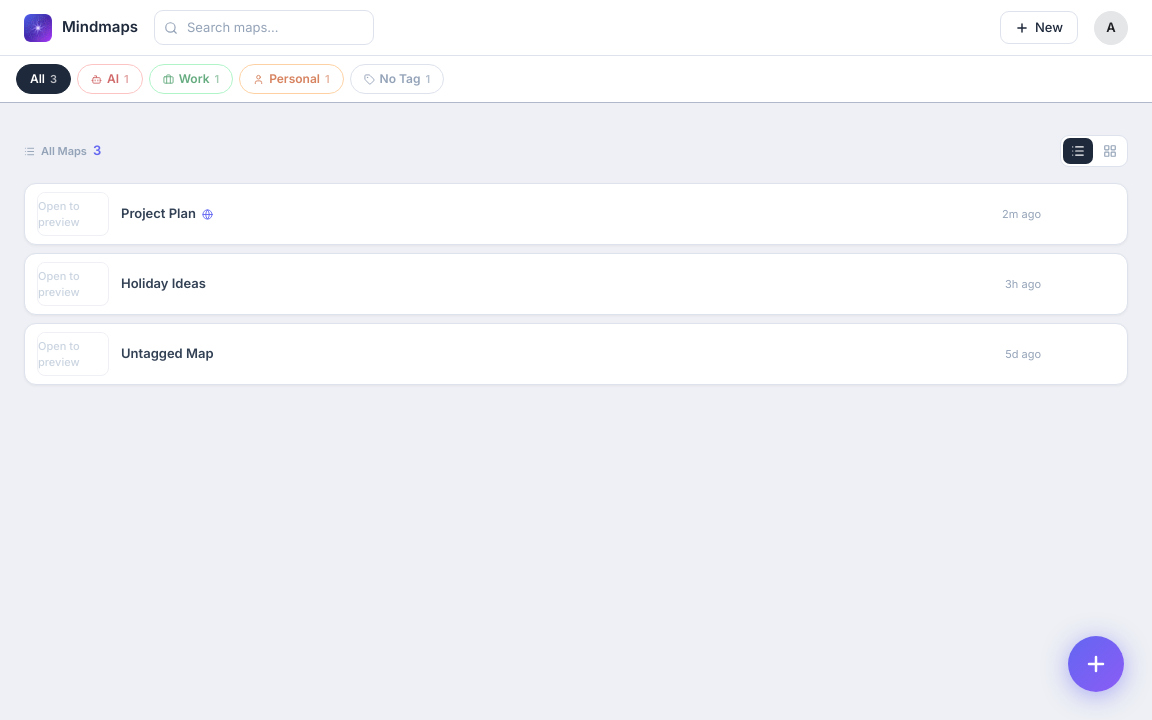
it: HomePage — delete & tag editing › closes the delete confirm on Escape
The image size is (1152, 720).
Hover over the button "Open to preview Project Plan 2m ago".
mouse_move(73, 214)  # box x1=24 y1=183 x2=1128 y2=245
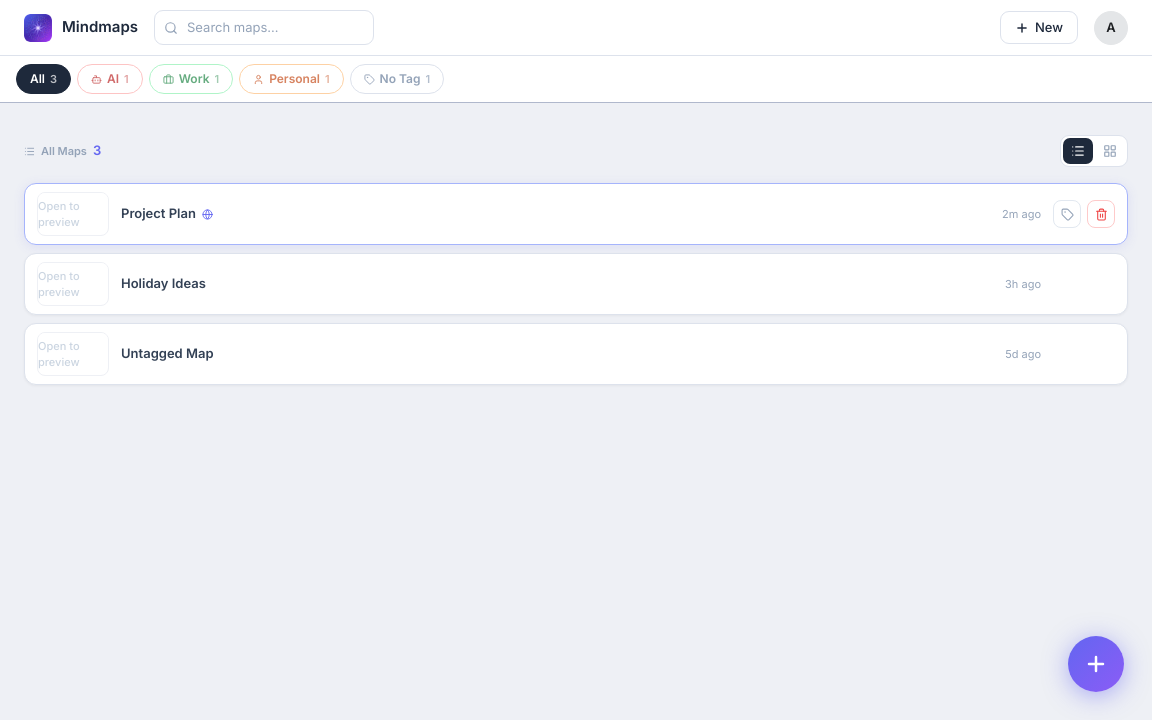
Click the button named "Delete Project Plan".
click(1101, 214)  # box x1=1087 y1=200 x2=1115 y2=228
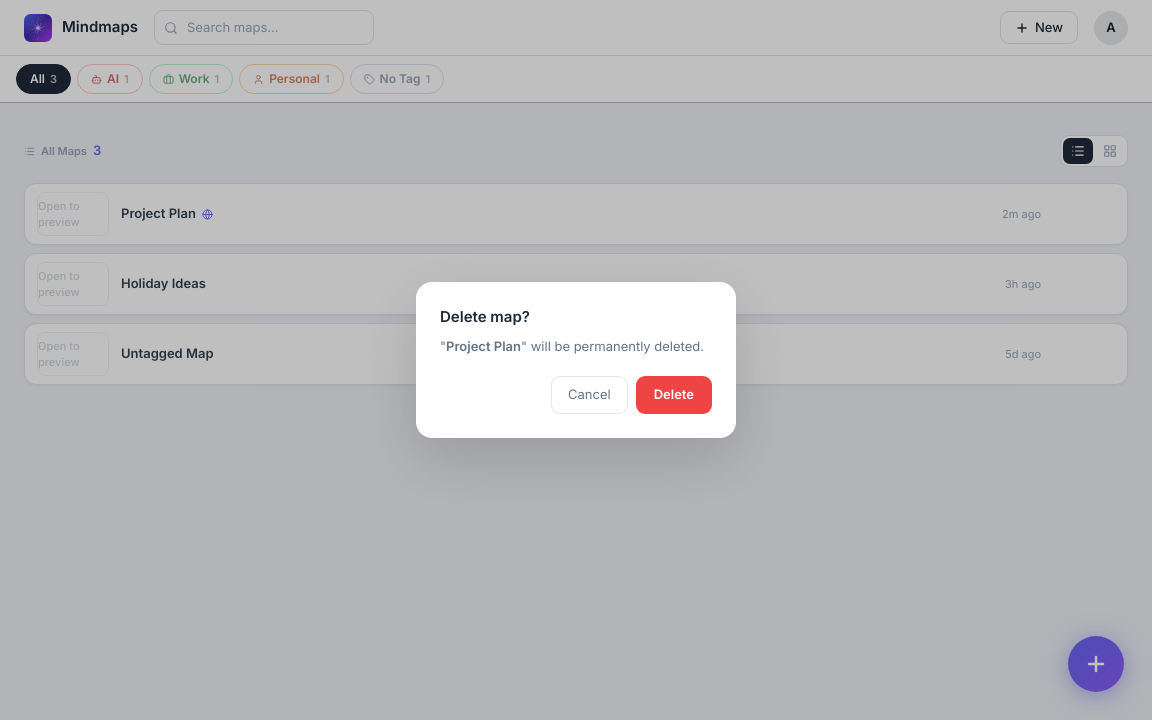
Result: the heading "Delete map?" is shown at x1=440 y1=307 x2=530 y2=326
Press Escape
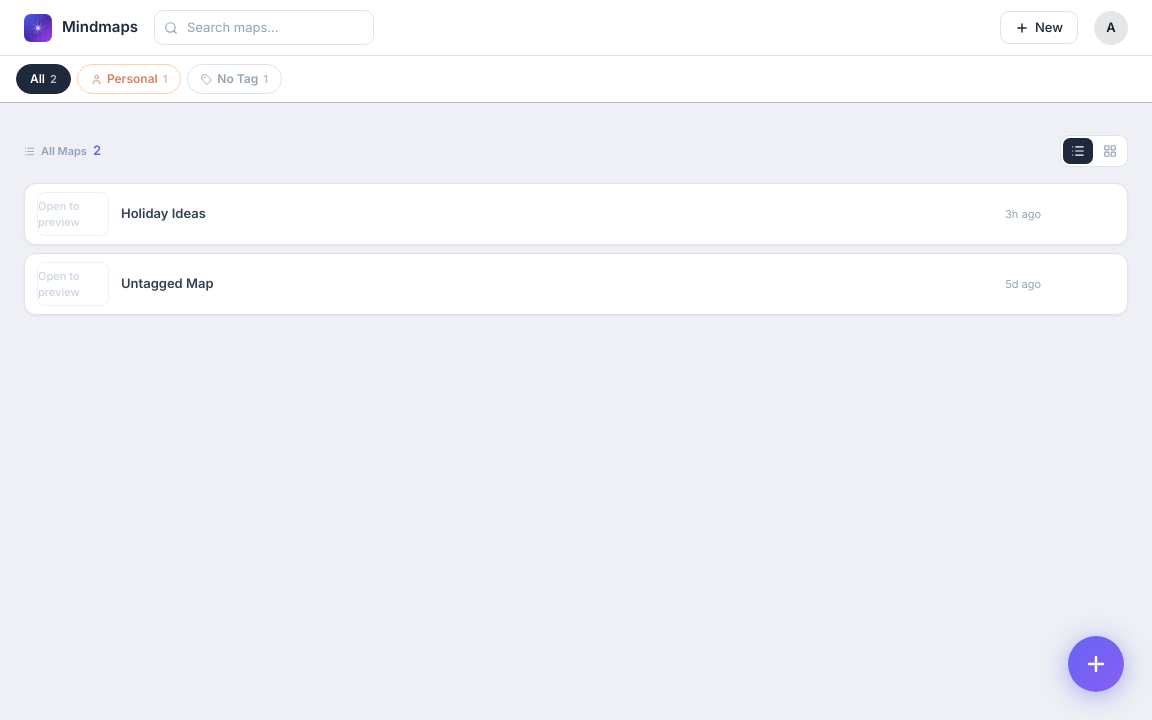
Result: the heading "Delete map?" is gone
